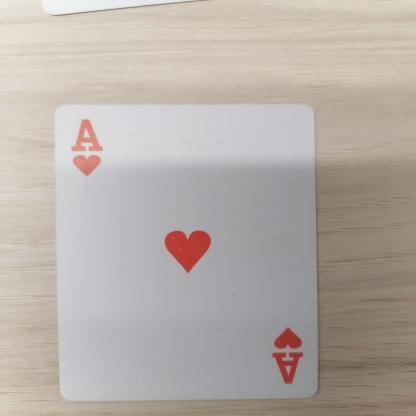AH: (62, 110, 114, 192), (257, 324, 312, 392)
